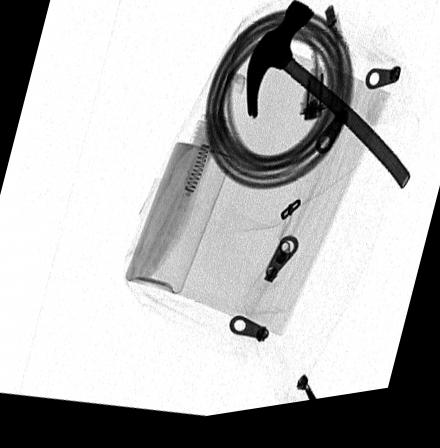Hammer: (245, 8, 411, 202)
